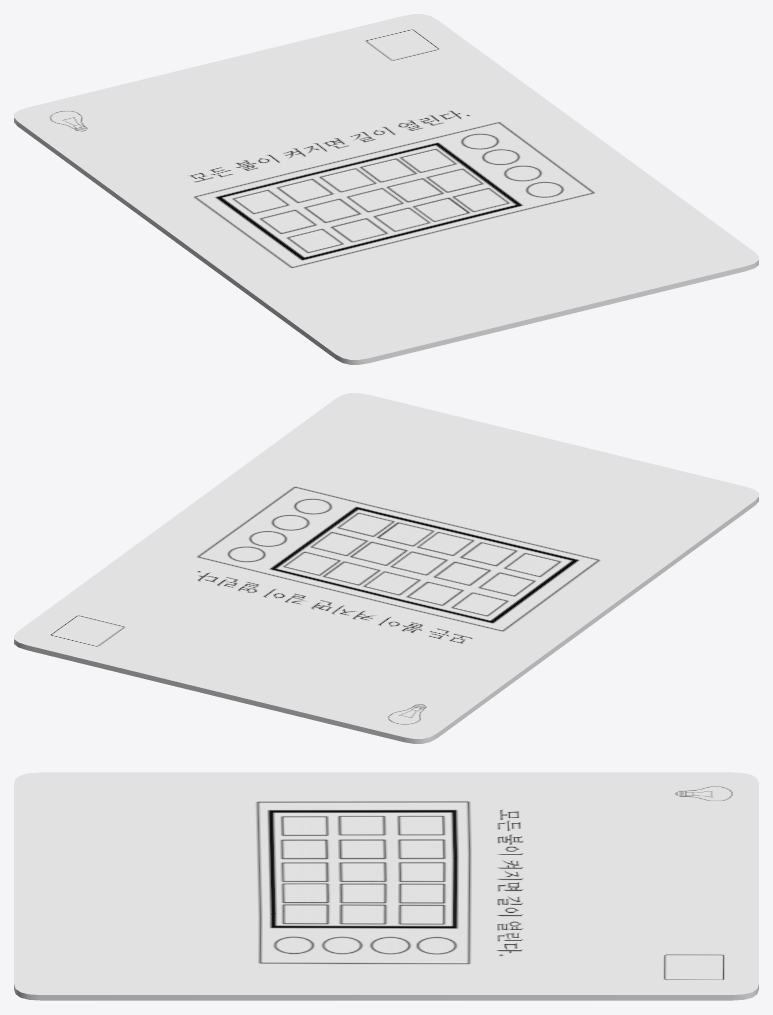
The model's file is ReverseHint.fbx.
The picture shows the model from 3 angles, top to bottom: view 1: azimuth 30°, elevation 25°; view 2: azimuth 150°, elevation 25°; view 3: azimuth 270°, elevation 25°; orthographic projection. The views are drawn at different scales.
Visible parts, largest first — view 1: Object005; view 2: Object005; view 3: Object005.
Part boxes in pixels (box(x1,y1,x2,y2)): Object005: box(14, 14, 758, 364); Object005: box(14, 393, 758, 743); Object005: box(14, 772, 758, 1000).
Bounding box in the file's own units: 87.49 × 1 × 124.
